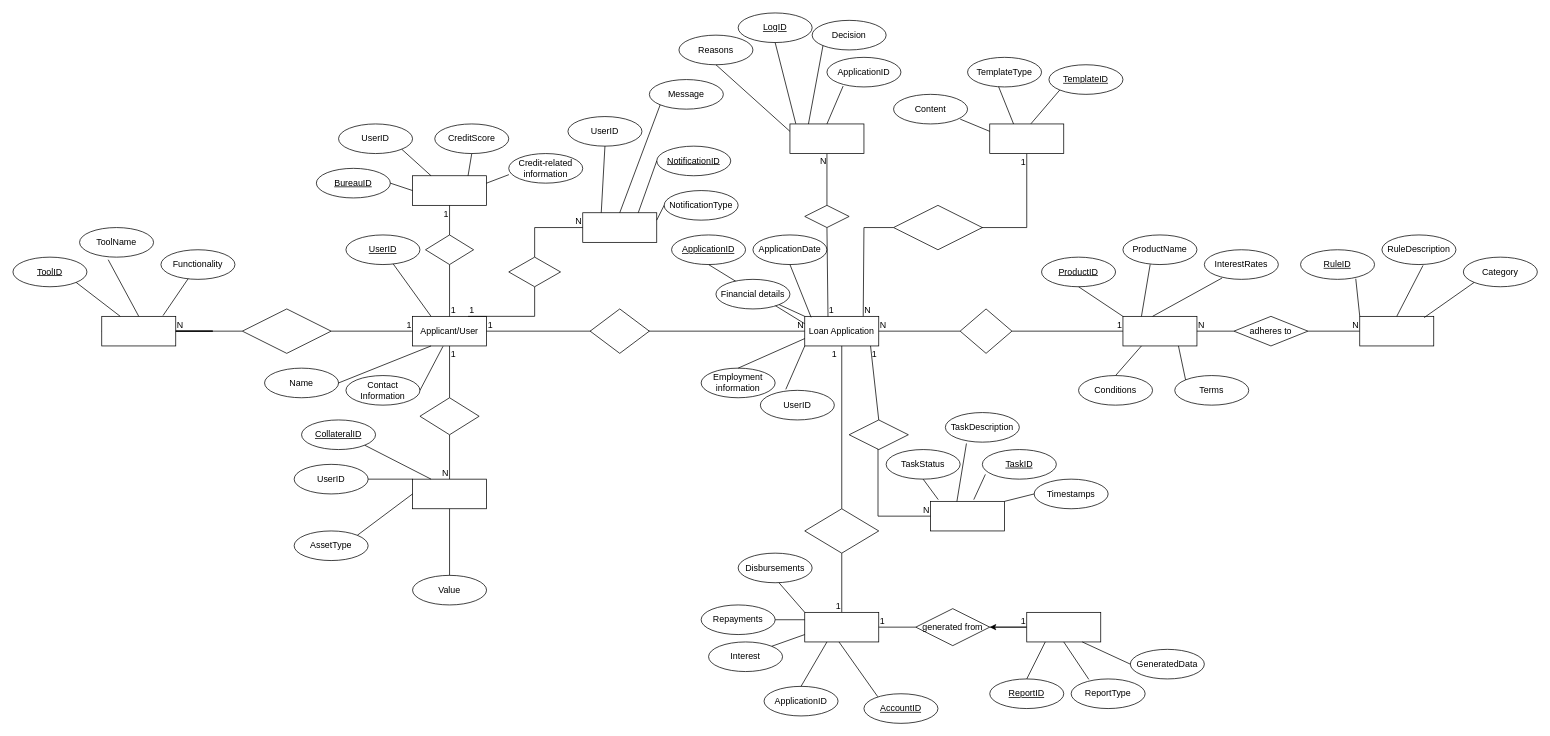
Image size: 1550x736. Some labels were removed from this diagram. Here are the shapes that lost their labels. From the top down, the box of each, then its label:
(789, 123, 864, 154): Decision Log
(989, 123, 1064, 154): Documentation Templates
(412, 175, 487, 205): Credit Bureau/Credit Score
(582, 212, 657, 242): Notification
(804, 205, 849, 228): logs
(893, 205, 982, 250): used for
(425, 234, 474, 265): has
(508, 256, 561, 287): receives
(101, 316, 176, 346): Customer Service Tools/Interfaces
(242, 308, 331, 353): utilized by
(589, 308, 649, 353): submits
(959, 308, 1012, 353): relates to
(1122, 316, 1197, 346): Loan Product
(1359, 316, 1434, 346): Compliance Rules/Guidelines
(419, 397, 479, 435): provides
(848, 419, 908, 450): involves
(412, 478, 487, 509): Collateral
(804, 508, 879, 553): results in
(930, 501, 1005, 531): Workflow Tasks/Processes
(804, 612, 879, 642): Loan Account
(1026, 612, 1101, 642): Reports/Analytics
